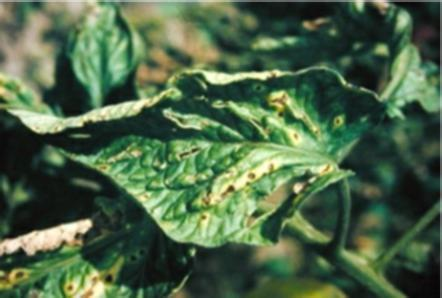Tomato Septoria leaf spot: (15, 62, 397, 244)
